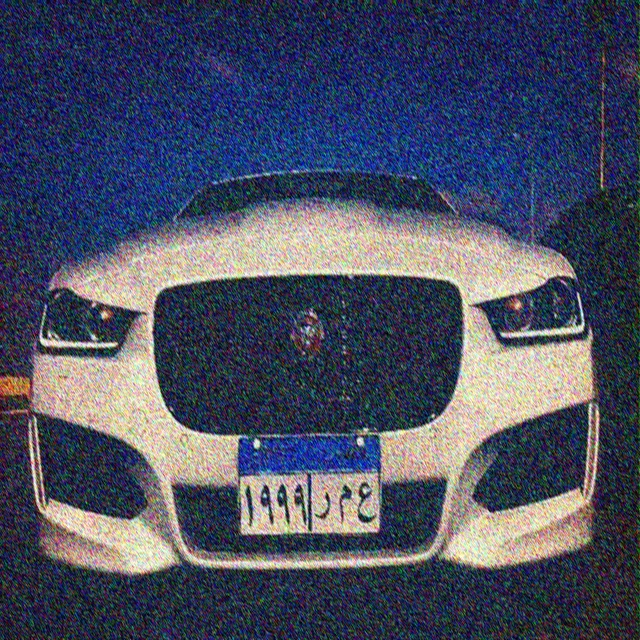License Plate: (233, 429, 385, 538)
